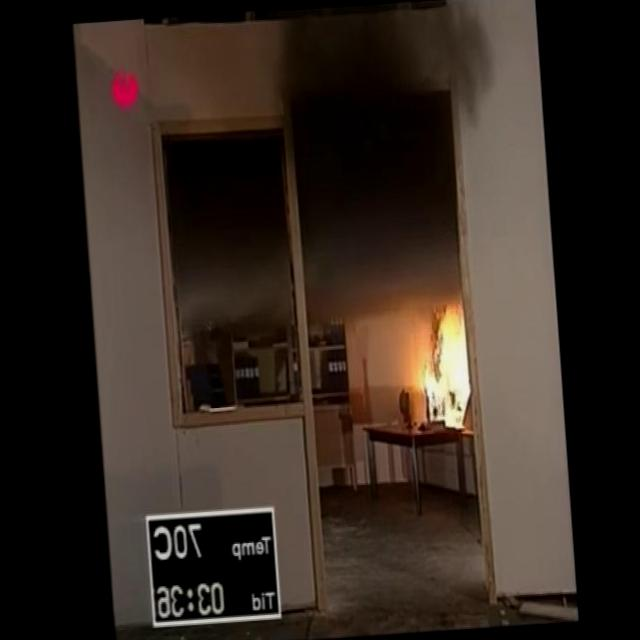fire: (399, 291, 478, 446)
